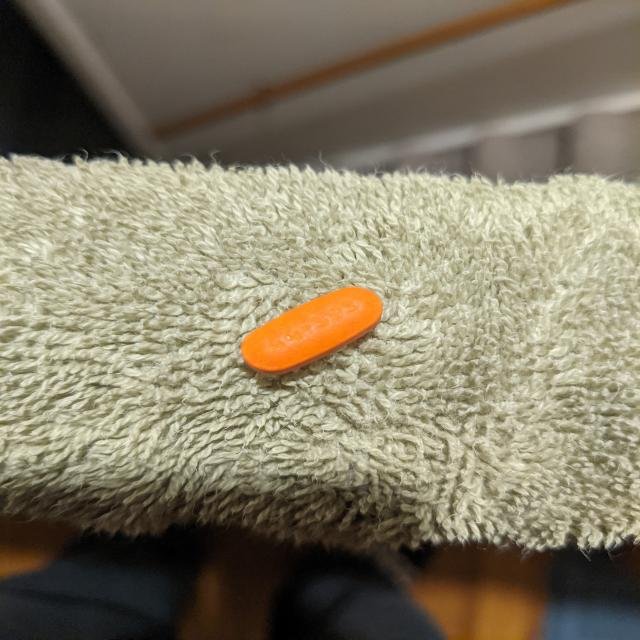non-organic waste: (240, 286, 384, 377)
